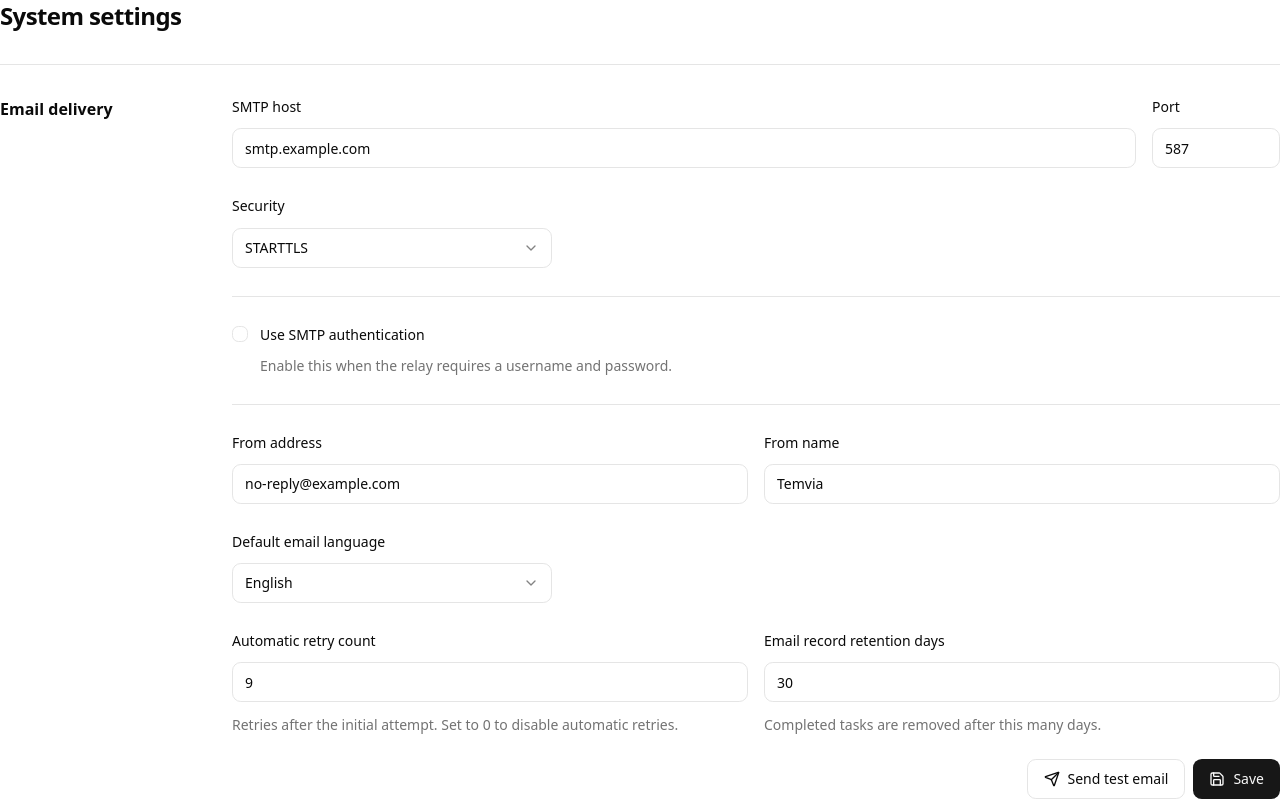
Test: email settings page › requires a valid recipient before sending a test
Expected: the heading "System settings" is shown, [0,0,181,32]
Click the button "Send test email" at (1106, 779), box [1026,759,1185,799]
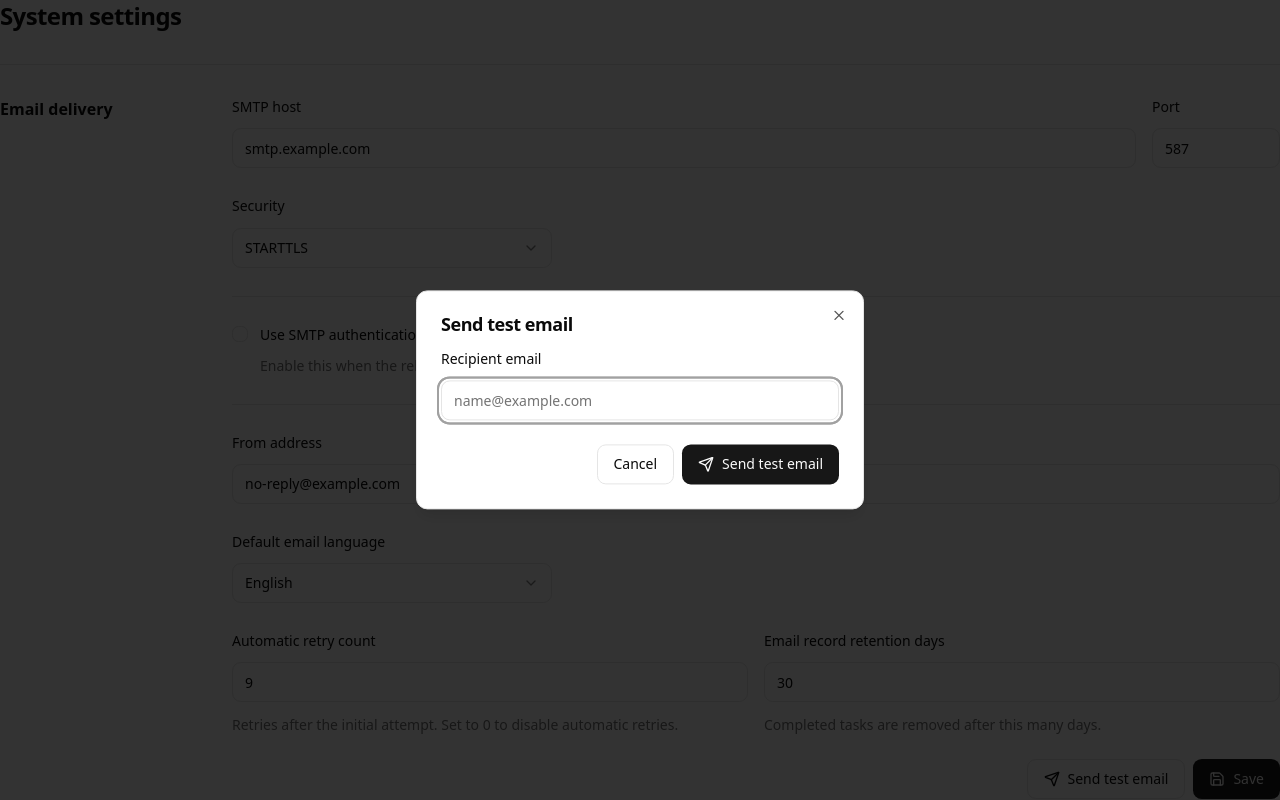
Type "not-an-email" into the field labelled "Recipient email" at (640, 401), box [441,381,839,421]
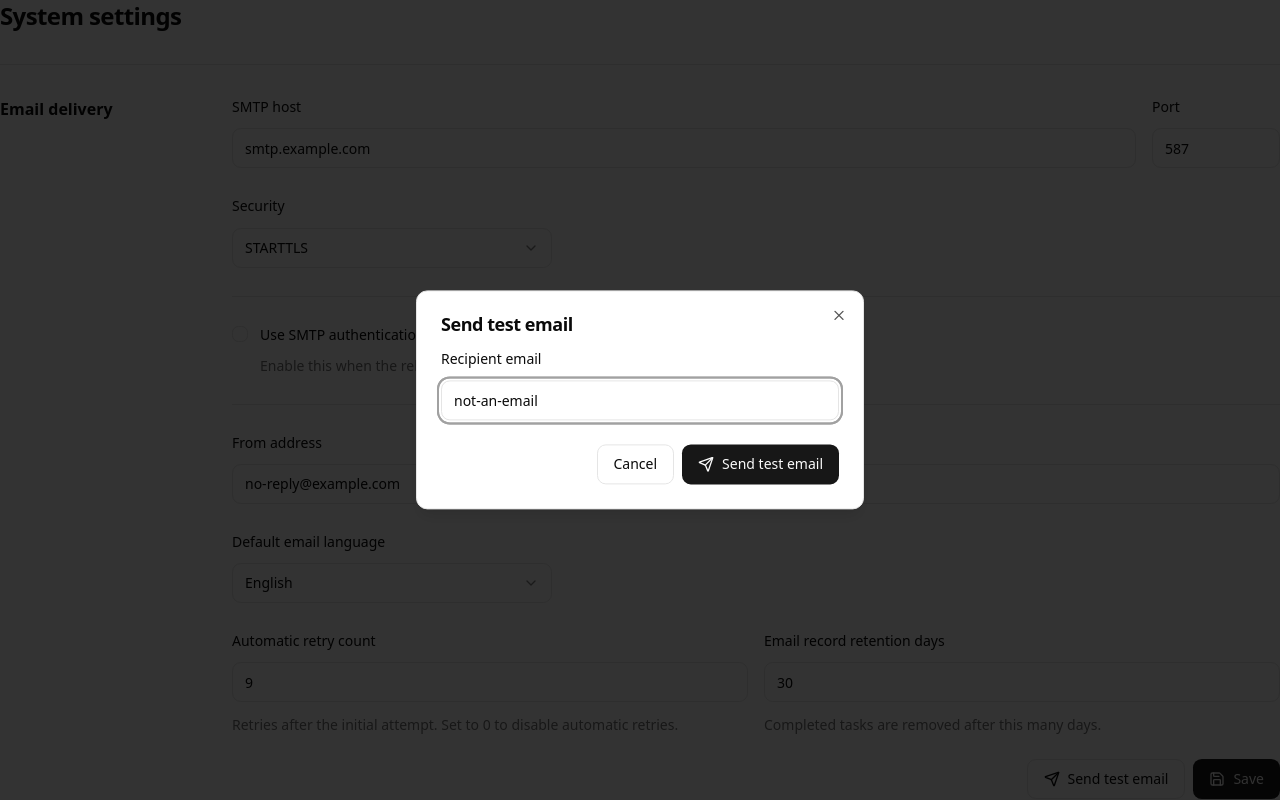
Click the button "Send test email" at (761, 465), box [682,445,839,485]
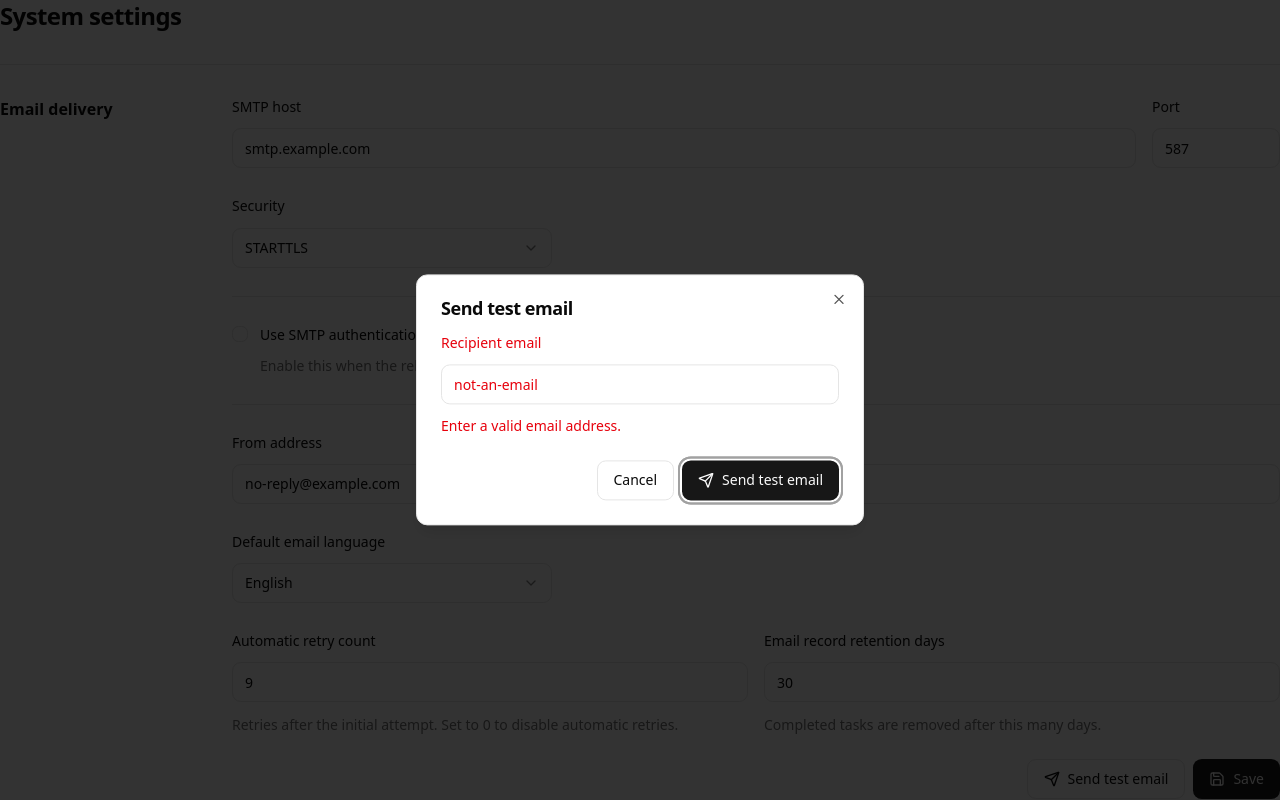
Expected: the message reads "Enter a valid email address.", [441,417,621,436]
